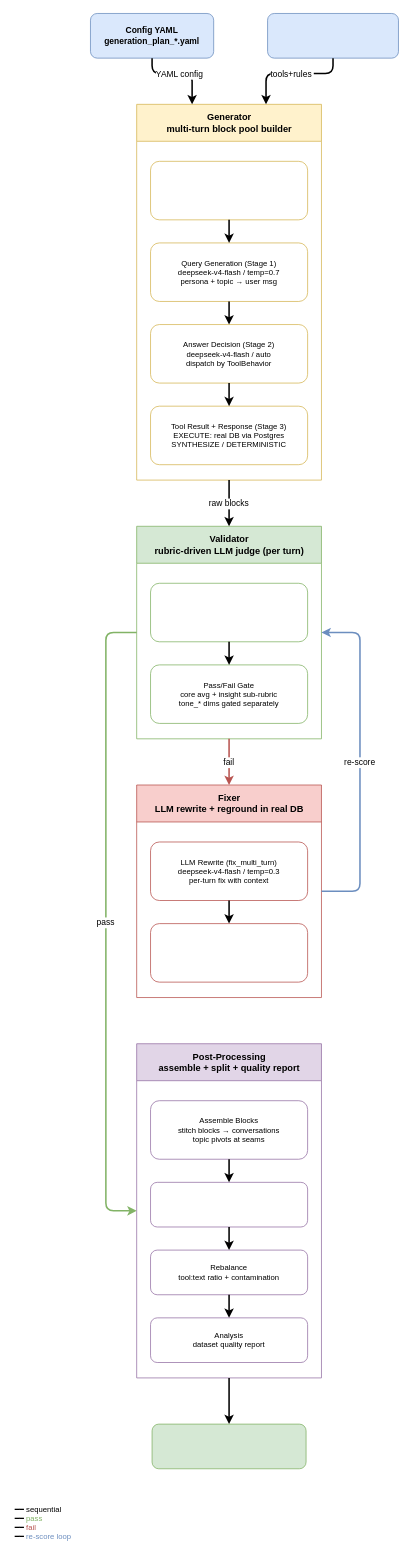
Some shapes in this 412 by 1567 pixel diagram are drawn without their labels. Each missing label, with the centre of its shape:
"Combo Grid Builder dialect × type × topic × emotion × style" goes at point (229, 190).
"Dataset Output eval / train / val .json" goes at point (228, 1446).
"Environment Module convai_spending_insights" goes at point (332, 35).
"LLM Scorer (per turn) deepseek-v4-flash / temp=0.1 mean≥8, no metric≤5" goes at point (229, 612).
"Reground Tool Units validate + re-execute vs DB regenerate reply from data" goes at point (229, 952).
"Split train / val / eval ratios" goes at point (229, 1204).
